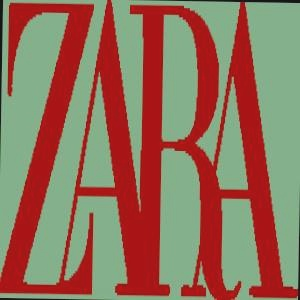zara: (297, 0, 300, 3)
